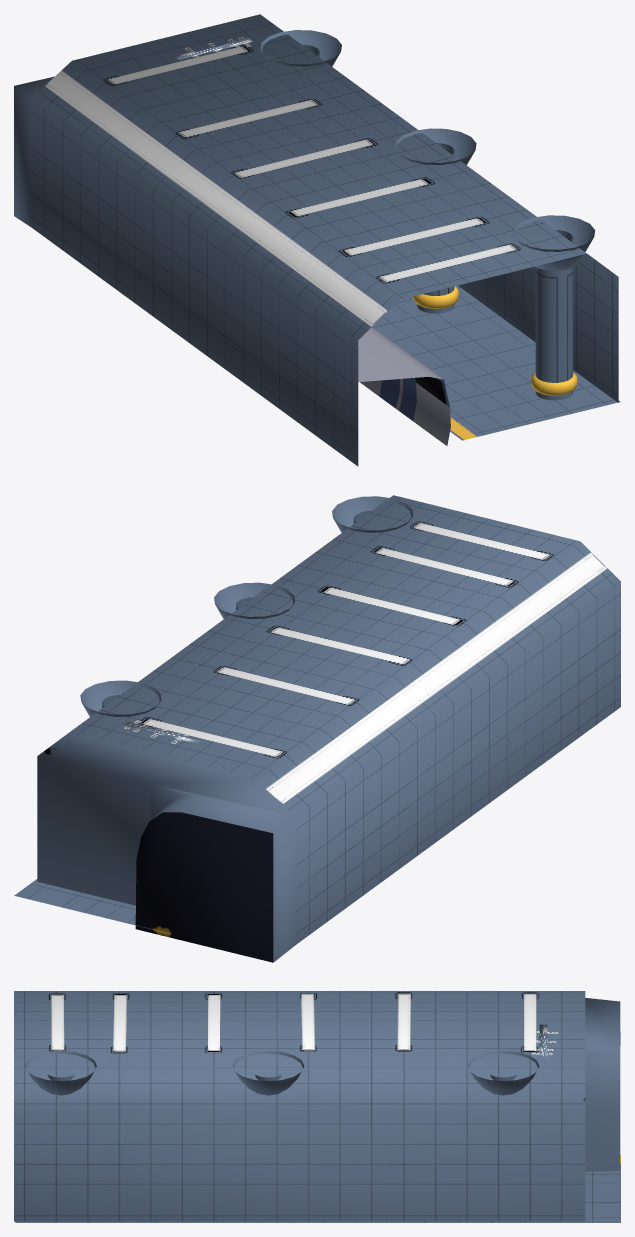
3 renders of one model, top to bottom at view 1: azimuth 30°, elevation 25°; view 2: azimuth 150°, elevation 25°; view 3: azimuth 270°, elevation 25°, orthographic. The views are drawn at different scales.
Visible parts, largest first — view 1: 4 bg.004, 4 bg.003, 4 bg.001, 4 bg.006, 4 bg.007, 4 bg.011; view 2: 4 bg.004, 4 bg.003, 4 bg.001, 4 bg.011, 4 bg.007; view 3: 4 bg.004, 4 bg.003, 4 bg.001, 4 bg.007, 4 bg.011.
Part boxes in pixels (x1,y1,x2,y2): 4 bg.004: [14, 14, 618, 466]; 4 bg.003: [372, 285, 620, 440]; 4 bg.001: [513, 215, 595, 400]; 4 bg.006: [358, 327, 450, 445]; 4 bg.007: [395, 128, 476, 313]; 4 bg.011: [260, 30, 341, 66]; 4 bg.004: [37, 495, 620, 962]; 4 bg.003: [14, 879, 170, 933]; 4 bg.001: [332, 496, 412, 532]; 4 bg.011: [80, 680, 161, 716]; 4 bg.007: [214, 582, 294, 618]; 4 bg.004: [14, 991, 620, 1221]; 4 bg.003: [15, 1155, 620, 1222]; 4 bg.001: [25, 1050, 96, 1095]; 4 bg.007: [232, 1050, 304, 1095]; 4 bg.011: [467, 1050, 539, 1095].
Bounding box in the file's own units: 27.53 × 17.17 × 62.86.
1 material, 1 textured.
